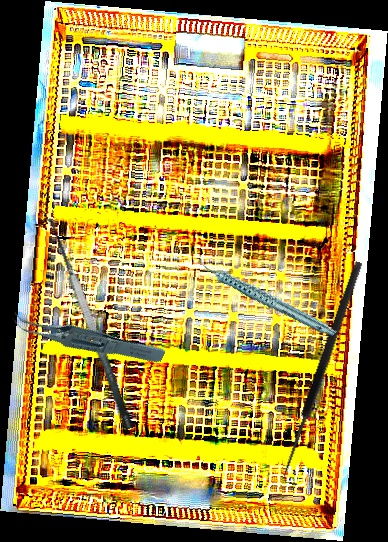Handpiece: (196, 232, 337, 362)
Hook Surgical: (278, 260, 374, 487)
Spatula Surgical: (32, 212, 136, 438)
Tissue Forceps: (9, 281, 167, 392)
